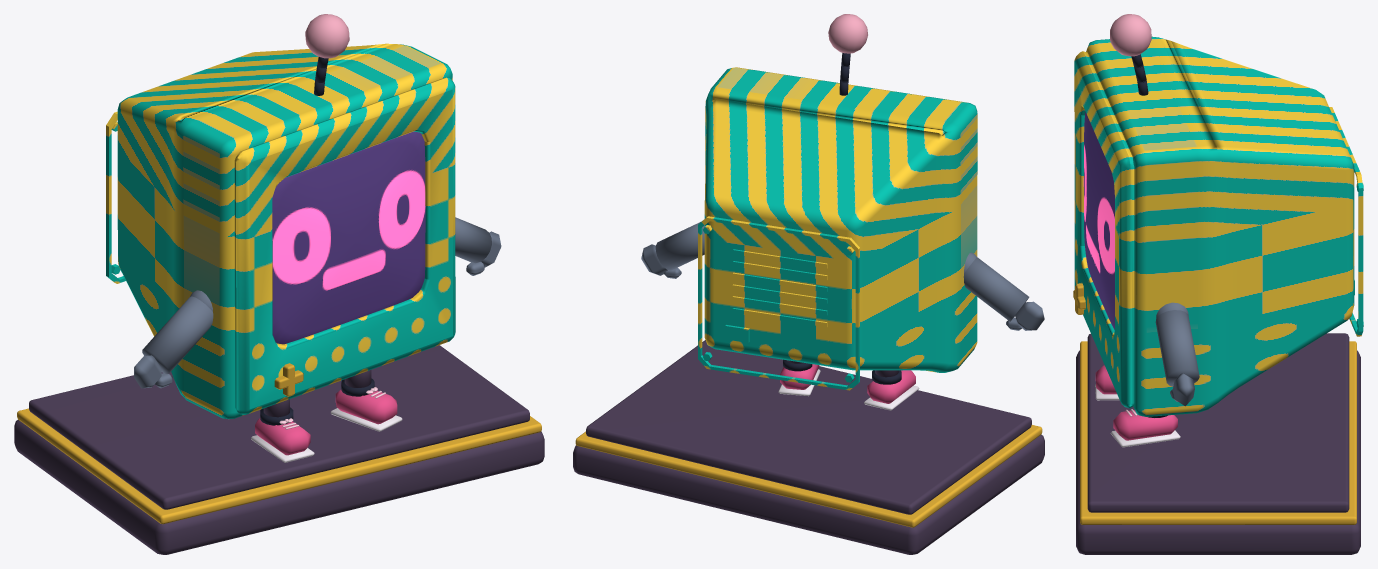
File: kart.paint.pattern-bundle.glb
3 views of the same model, side by side, from view 1: azimuth 30°, elevation 25°; view 2: azimuth 150°, elevation 25°; view 3: azimuth 270°, elevation 25° (orthographic). The views are drawn at different scales.
Parts seen in each view (by area): view 1: emi_teacup_mesh, display_top, stand_identity_face, display_base, brass_band; view 2: emi_teacup_mesh, display_top, display_base, brass_band; view 3: emi_teacup_mesh, display_top, display_base, brass_band, stand_identity_face.
Part boxes in pixels (bbox=[...]): emi_teacup_mesh: bbox=[106, 14, 501, 462]; display_top: bbox=[29, 345, 529, 509]; stand_identity_face: bbox=[272, 131, 425, 344]; display_base: bbox=[14, 419, 544, 554]; brass_band: bbox=[17, 408, 541, 524]; emi_teacup_mesh: bbox=[641, 14, 1044, 410]; display_top: bbox=[586, 340, 1031, 514]; display_base: bbox=[573, 434, 1044, 554]; brass_band: bbox=[575, 425, 1042, 527]; emi_teacup_mesh: bbox=[1073, 14, 1363, 447]; display_top: bbox=[1087, 333, 1349, 512]; display_base: bbox=[1076, 350, 1360, 554]; brass_band: bbox=[1080, 341, 1356, 524]; stand_identity_face: bbox=[1083, 111, 1114, 329].
Bounding box in the file's own units: 0.6772 × 0.75 × 0.4359.
4 materials, 3 textured.
